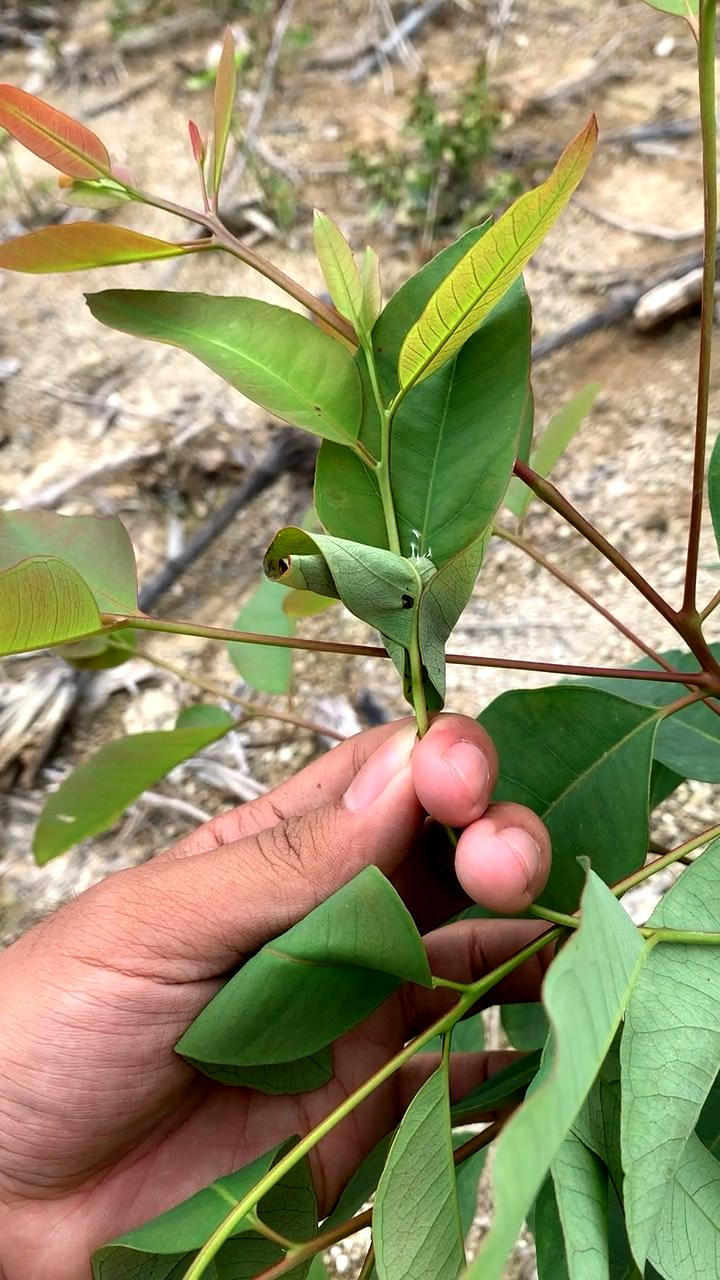Leaf Roller - Leaf: (233, 510, 439, 678)
